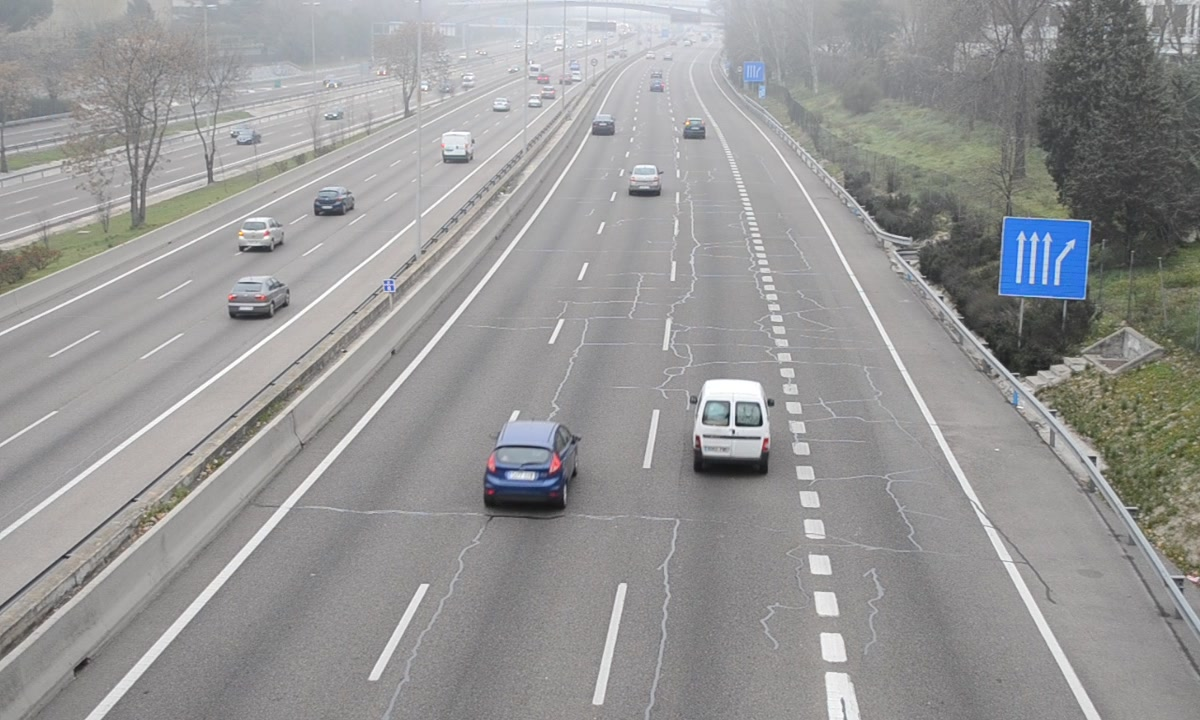car: (485, 421, 579, 504), (628, 163, 662, 196), (589, 112, 616, 137), (682, 117, 707, 140)
van: (693, 379, 772, 471)
